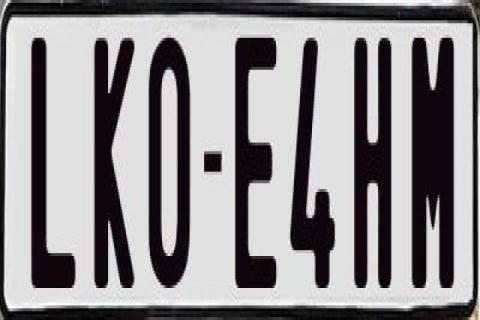0: (288, 35, 334, 285), (148, 38, 190, 288)
E: (234, 35, 278, 297)
H: (354, 29, 392, 282)
K: (92, 38, 138, 297)
L: (28, 32, 78, 288)
M: (410, 38, 453, 288)
